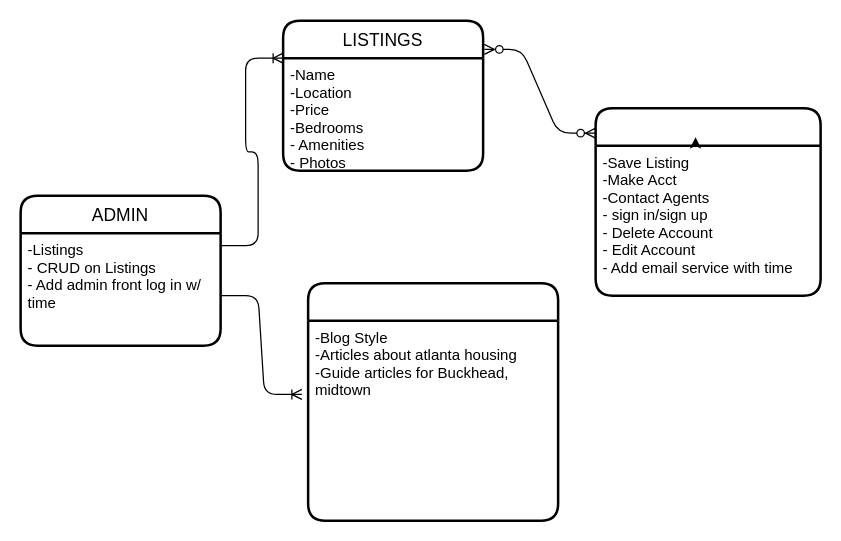
The diagram is 841 pixels wide and 541 high, and some of its shapes have lost their labels. The box of each missing label's shape, as (x1, y1, x2, y2) in pixels:
Guides/Stories: (306, 281, 559, 521)
USERS: (594, 106, 821, 296)
